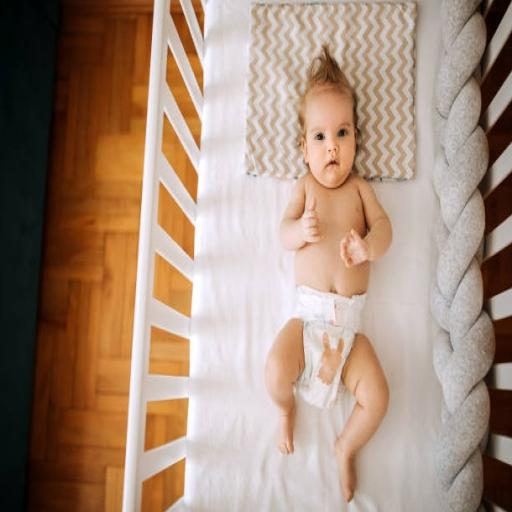baby: (266, 46, 391, 501)
crib: (124, 0, 344, 510)
